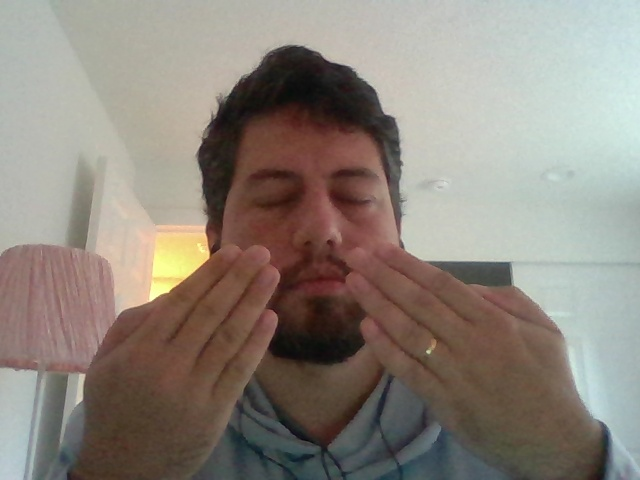ThankYou: (79, 245, 581, 480)
